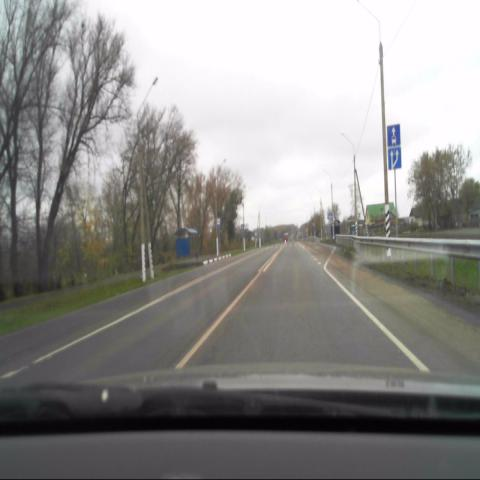5_14: (387, 122, 400, 146)
5_15_3: (387, 146, 402, 170)
